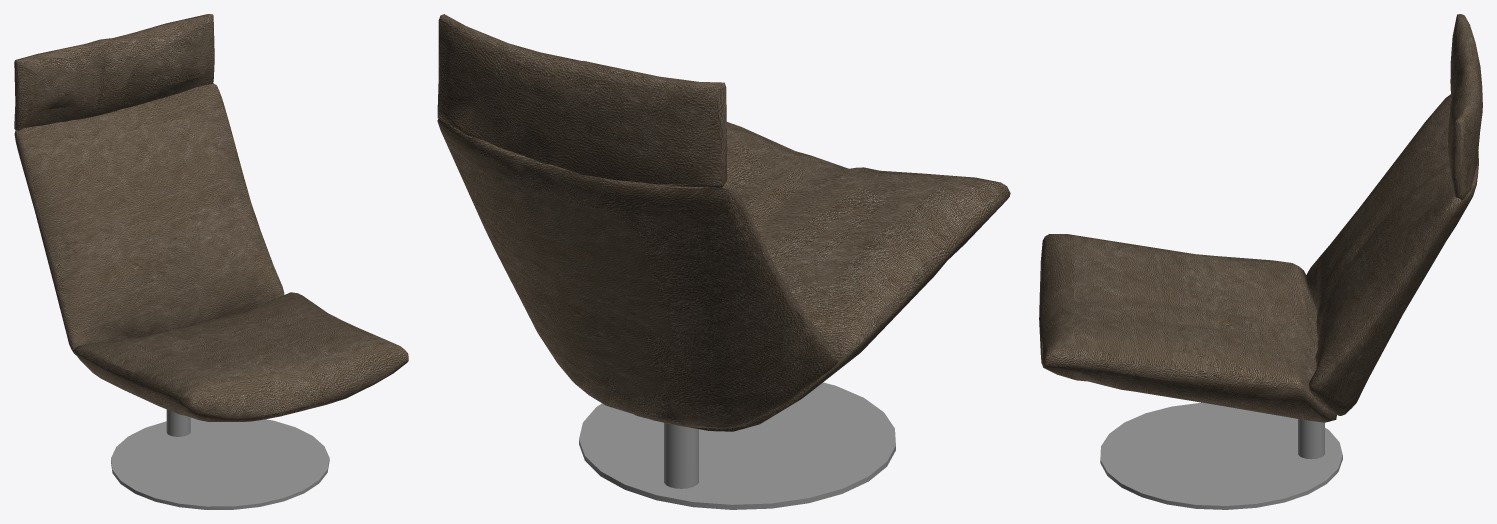
The model's file is Chair 2.FBX.
3 views of the same model, side by side, from view 1: azimuth 30°, elevation 25°; view 2: azimuth 150°, elevation 25°; view 3: azimuth 270°, elevation 25° (orthographic). The views are drawn at different scales.
Visible parts, largest first — view 1: Chair 2; view 2: Chair 2; view 3: Chair 2.
Boxes of the visible parts, x1,y1,x2,y2 form: Chair 2: (14, 14, 408, 509); Chair 2: (437, 14, 1010, 509); Chair 2: (1039, 14, 1482, 509).
Size of the model in its own units: 94.68 by 140 by 144.
3 materials, 1 textured.
